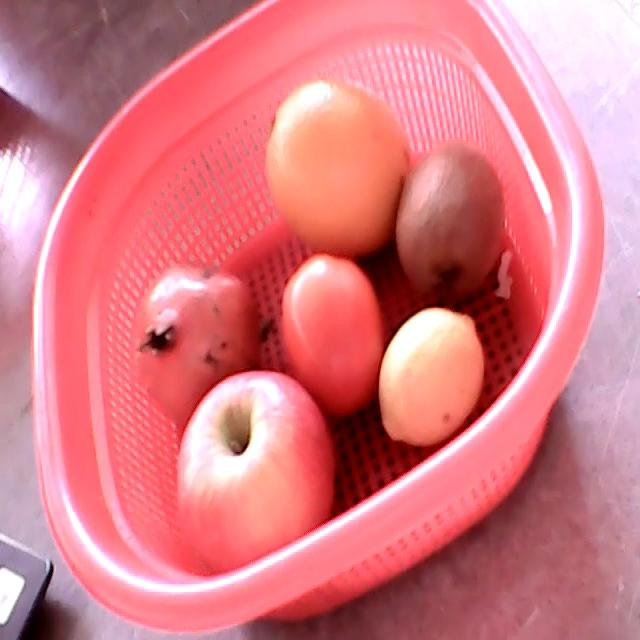apple: (175, 370, 341, 573)
kiwi: (395, 141, 506, 302)
lemon: (379, 307, 484, 446)
orange: (264, 79, 412, 256)
pomegranate: (130, 263, 261, 426)
tomato: (280, 253, 384, 415)
